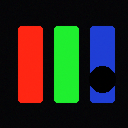2 circle: (89, 66, 115, 92)
